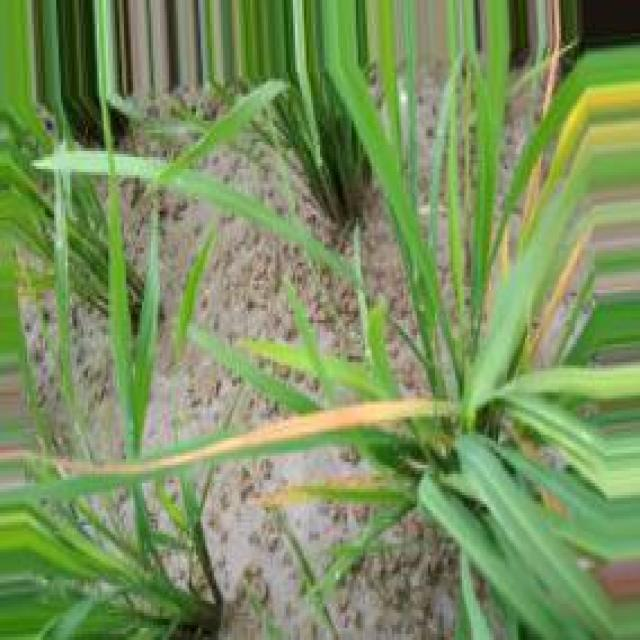Rice Tungro: (0, 402, 446, 498)
